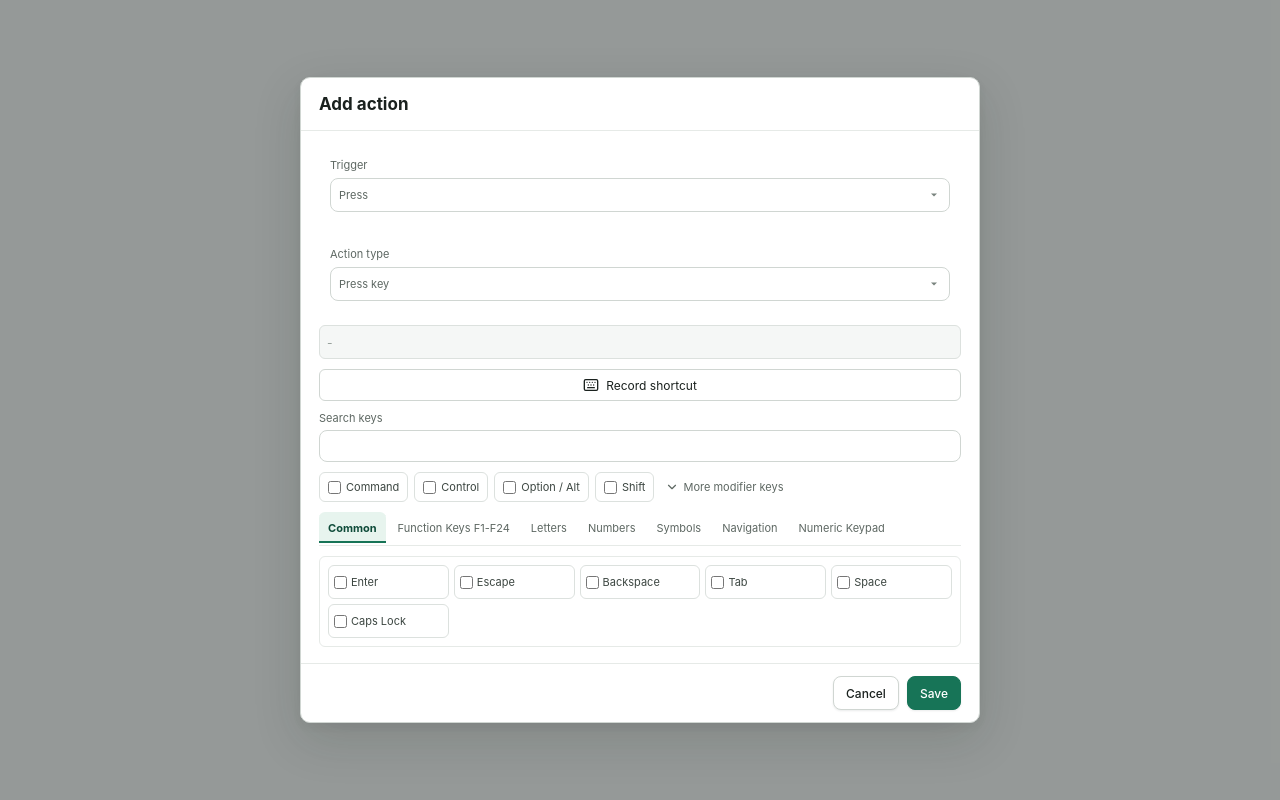
Test case: translates hotkey validation errors before showing them
What coordinates should you click on to do the following:
click the button "Save"
I would click on:
 (934, 693)
Its box is x1=907 y1=676 x2=961 y2=710.
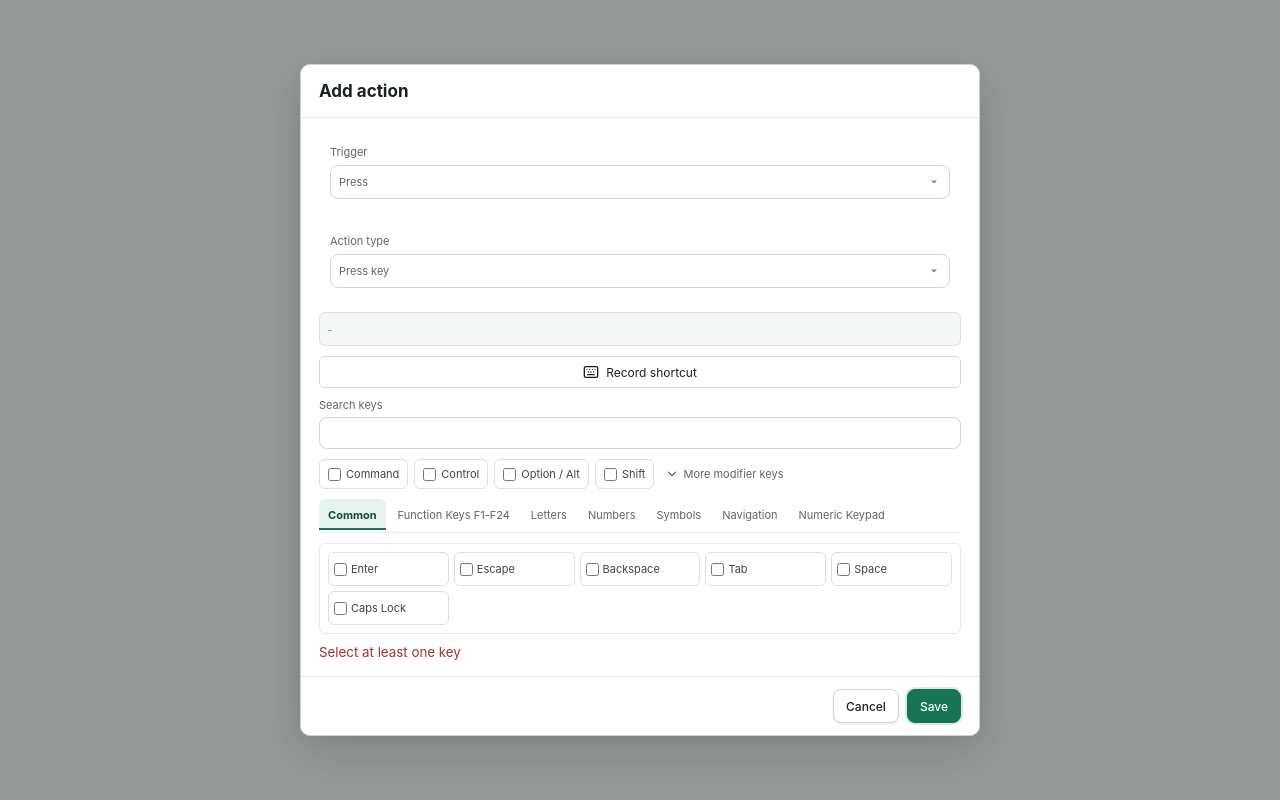
Check: the text "Select at least one key" is shown, box x1=319 y1=644 x2=461 y2=660
